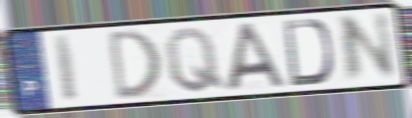A: (225, 21, 287, 94)
D: (106, 27, 163, 103), (281, 17, 336, 89)
I: (52, 32, 81, 104)
N: (337, 10, 399, 87)
Q: (162, 25, 228, 95)
